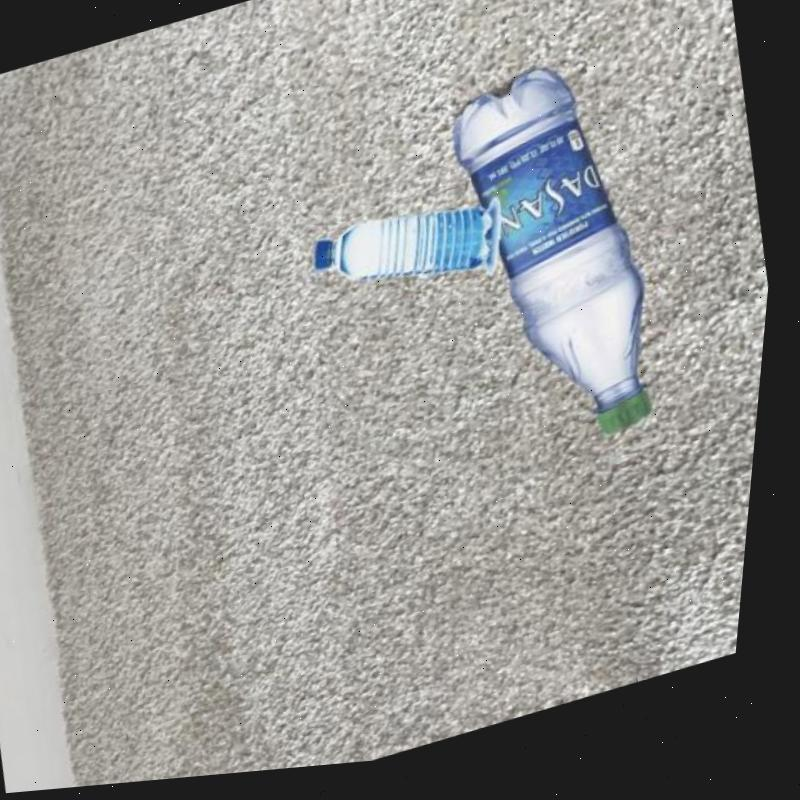botella: (423, 53, 694, 487), (310, 192, 510, 323)
